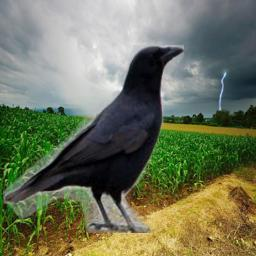Crow: (3, 45, 184, 233)
